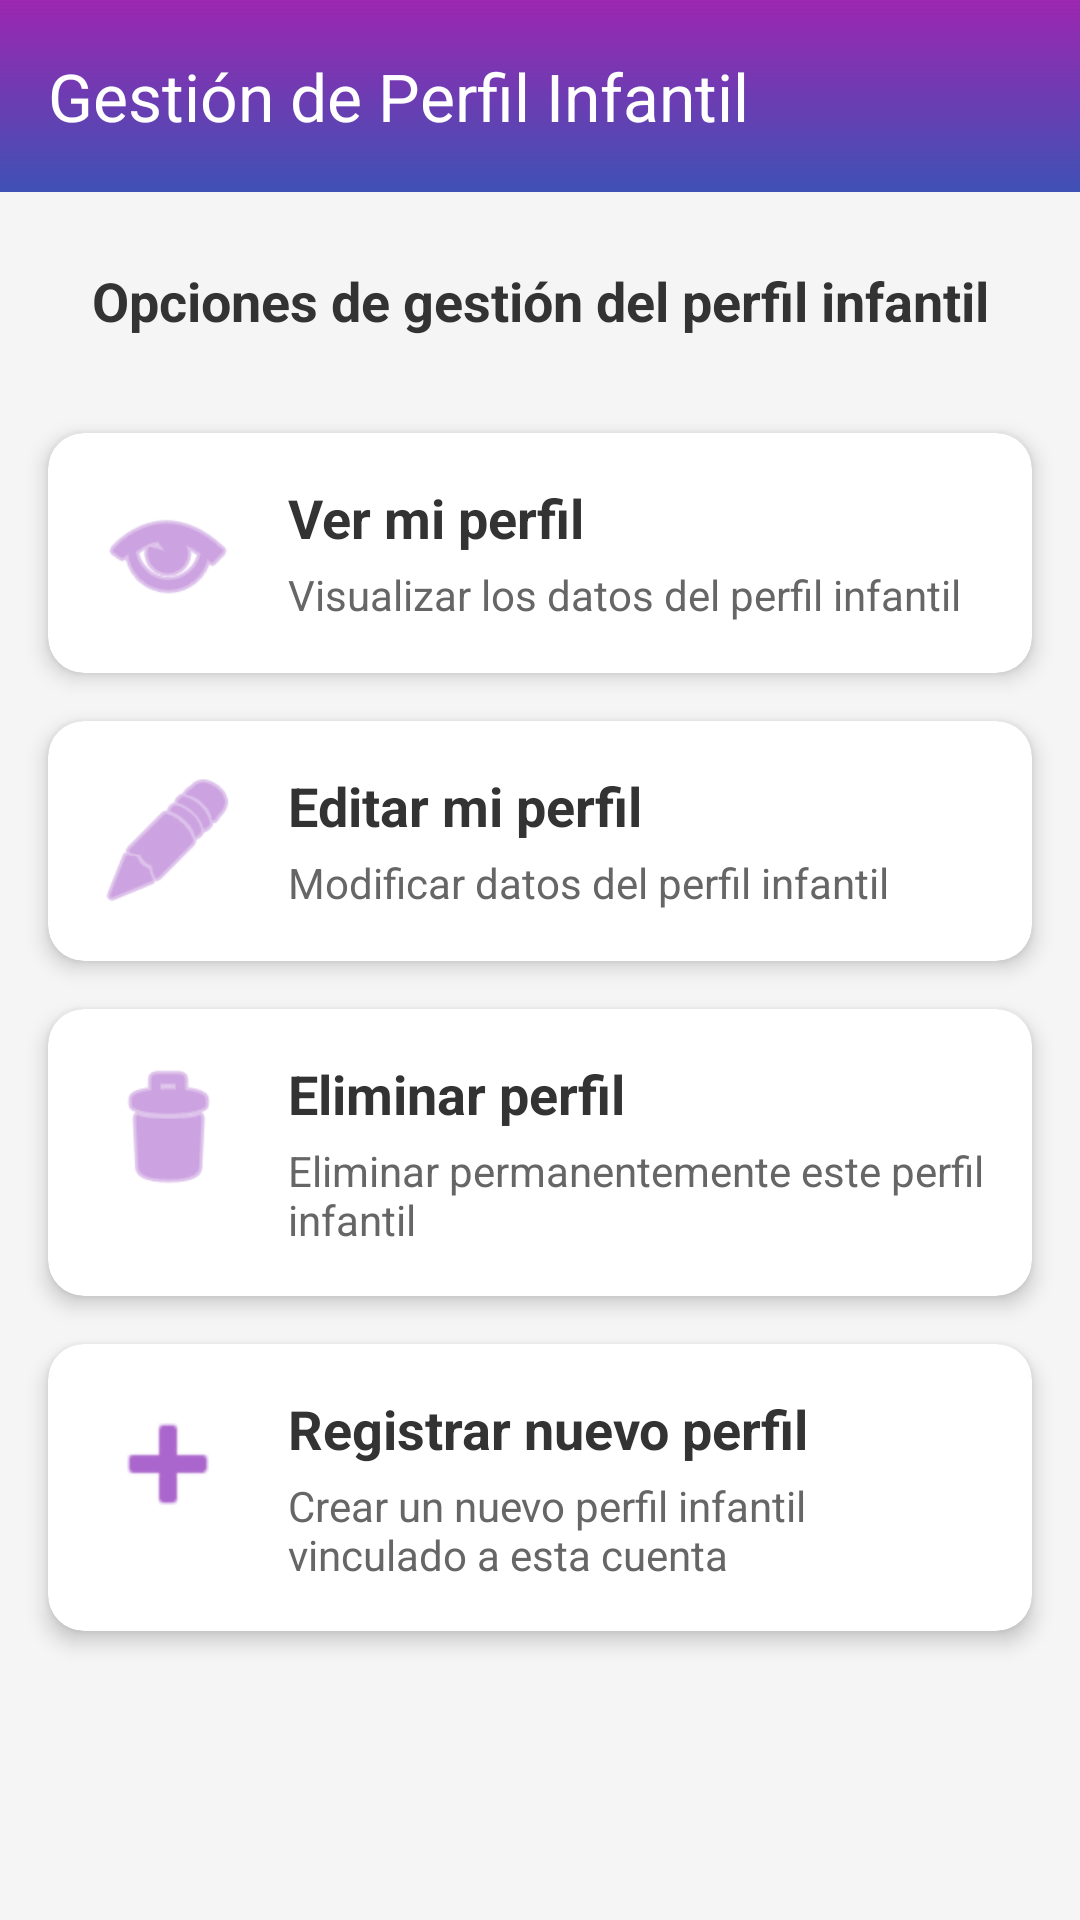

Screen size 1080x1920. Icon name, then its center in pixels as [x,y]:
add: [168,1464]
delete: [168,1127]
view: [168,556]
